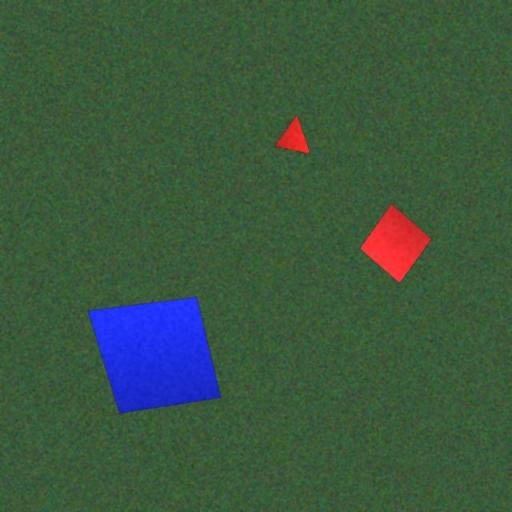BLUE_SQUARE: (88, 297, 222, 414)
RED_SQUARE: (359, 203, 432, 283)
